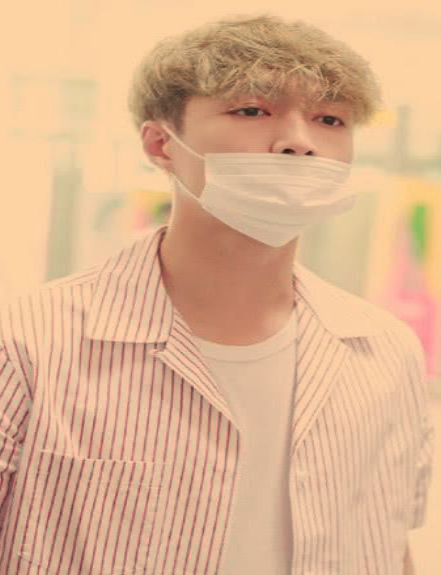mask_weared_incorrect: (179, 97, 361, 251)
